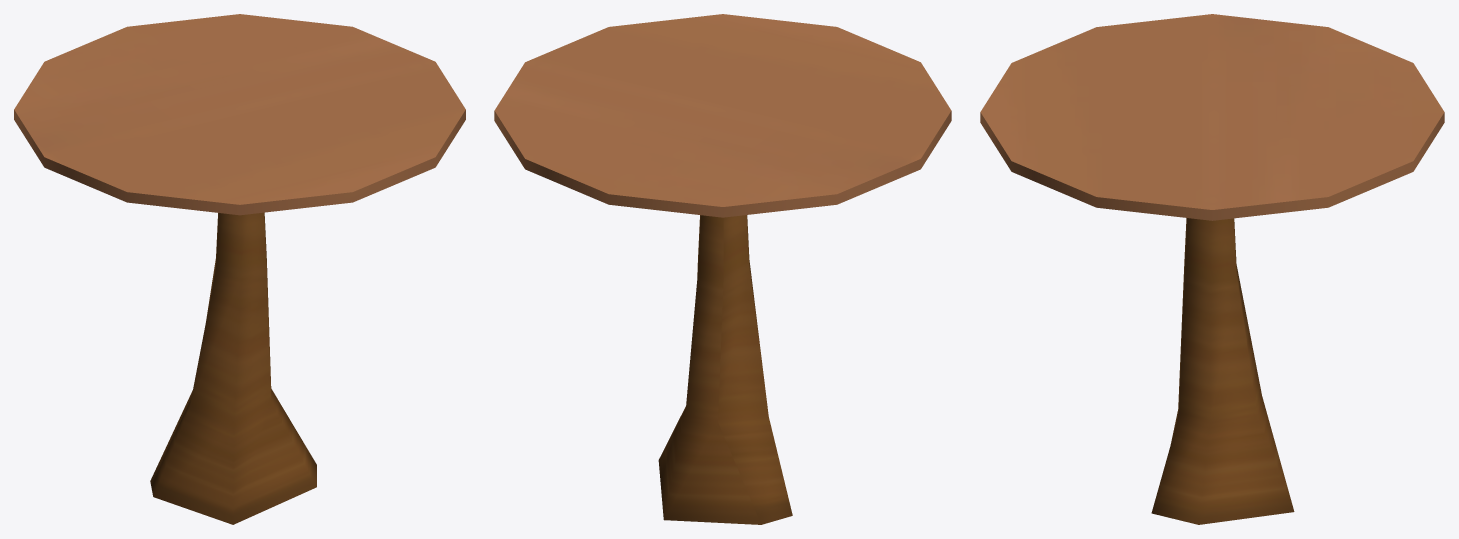
Rendered from table1.FBX.
The picture shows the model from 3 angles, left to right: view 1: azimuth 30°, elevation 25°; view 2: azimuth 150°, elevation 25°; view 3: azimuth 270°, elevation 25°; orthographic projection. The views are drawn at different scales.
Visible parts, largest first — view 1: Cylinder002; view 2: Cylinder002; view 3: Cylinder002.
Boxes of the visible parts, x1=… form: Cylinder002: x1=14, y1=14, x2=465, y2=524; Cylinder002: x1=494, y1=14, x2=951, y2=524; Cylinder002: x1=980, y1=14, x2=1444, y2=524.
Size of the model in its own units: 61.55 by 58.48 by 61.55.
